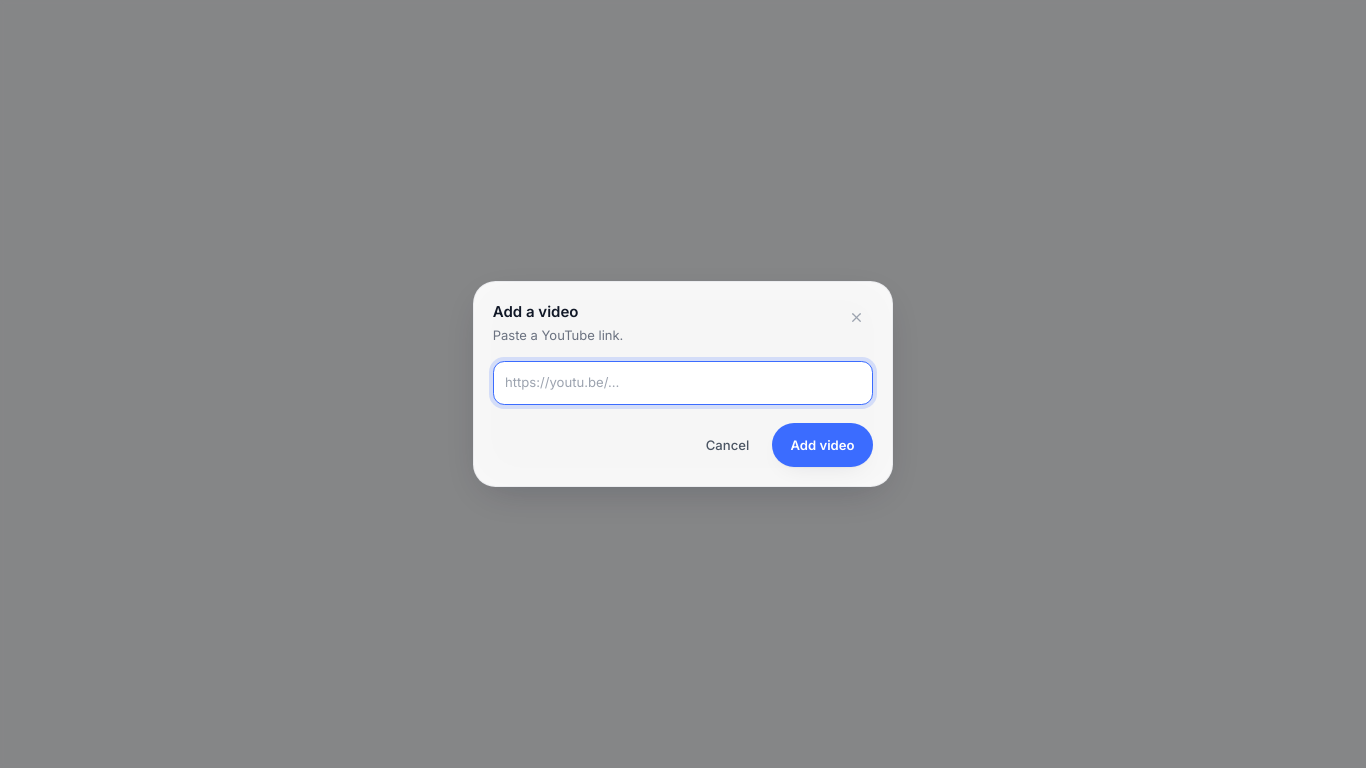
Scenario: PromptDialog › shows validation inline instead of accepting a bad value
Type "not-a-url" into the field at [683, 383], box [493,361,873,405]
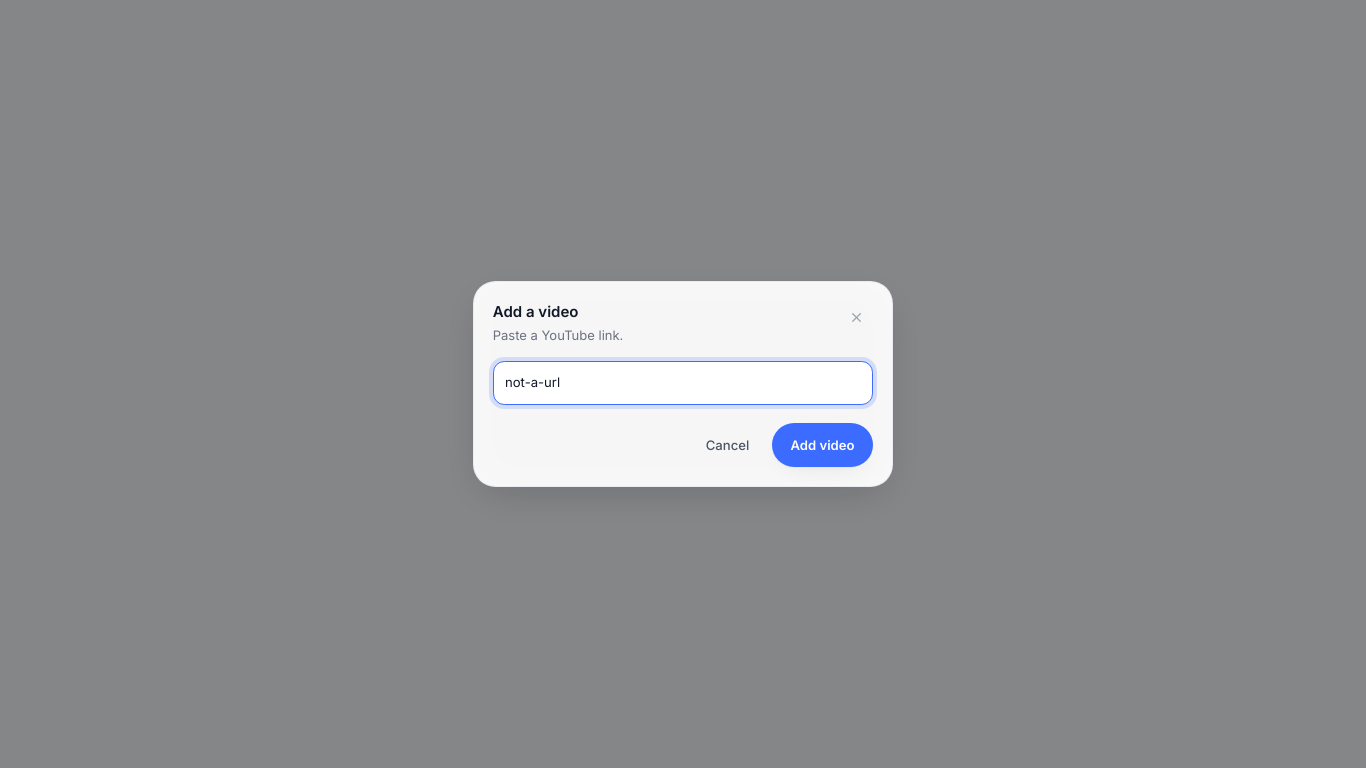
Click the button "Add video" at [822, 446], box [772,424,873,468]
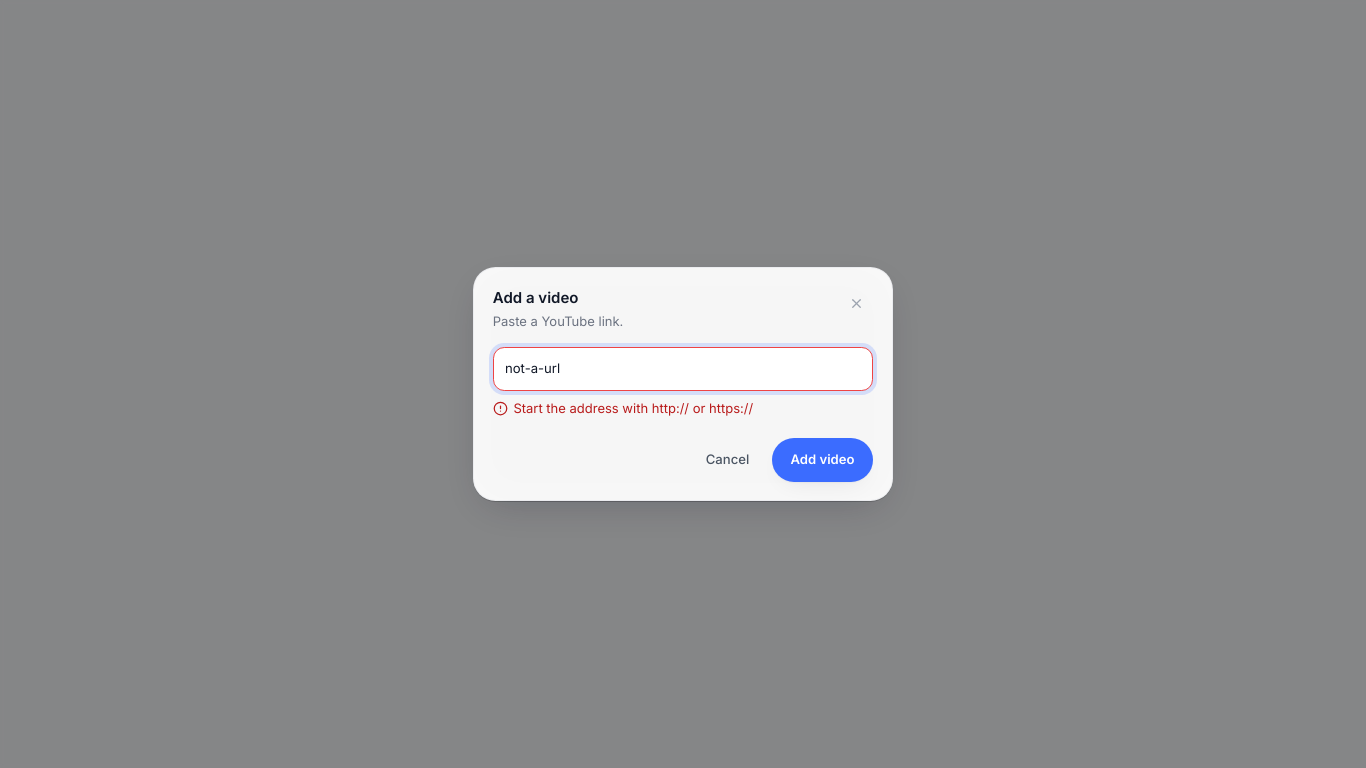
Result: the message shows "Start the address with http" at [513,400,753,416]
